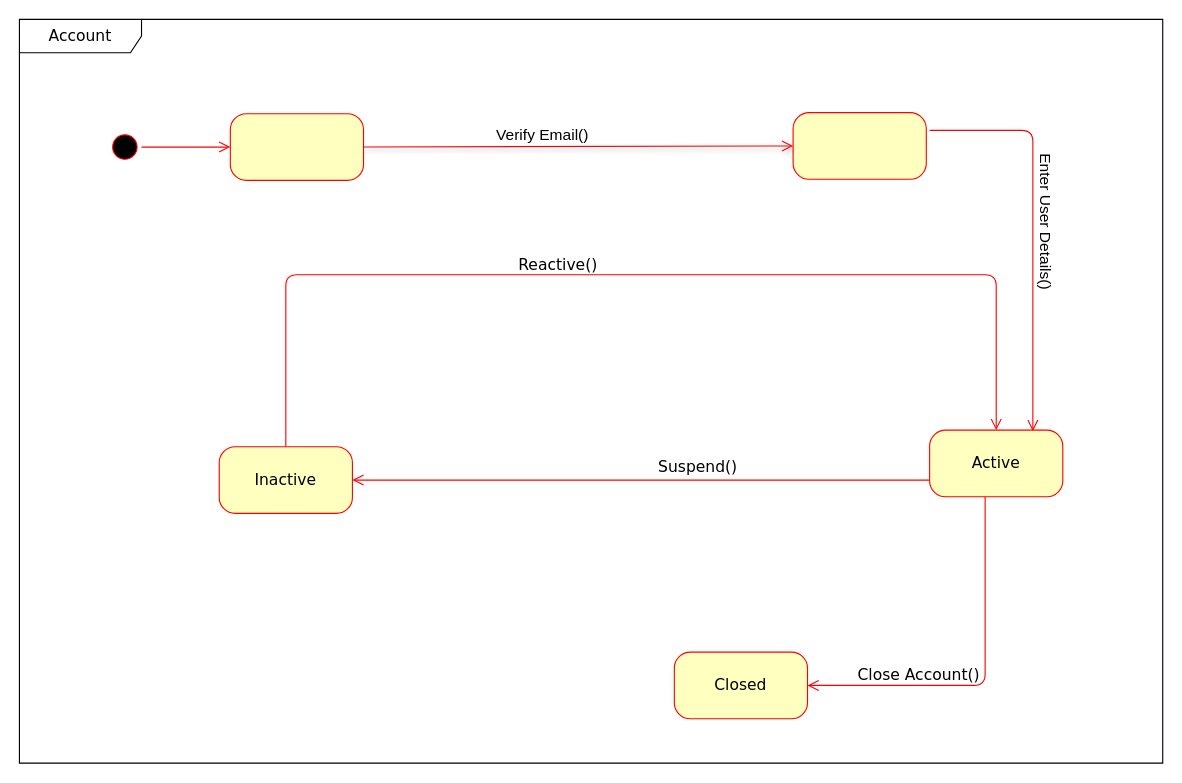
This 1182x783 diagram has some shape labels left out. Each missing label, with the centre of its shape:
"Registered" goes at point 296,146.
"Verified" goes at point 859,145.
